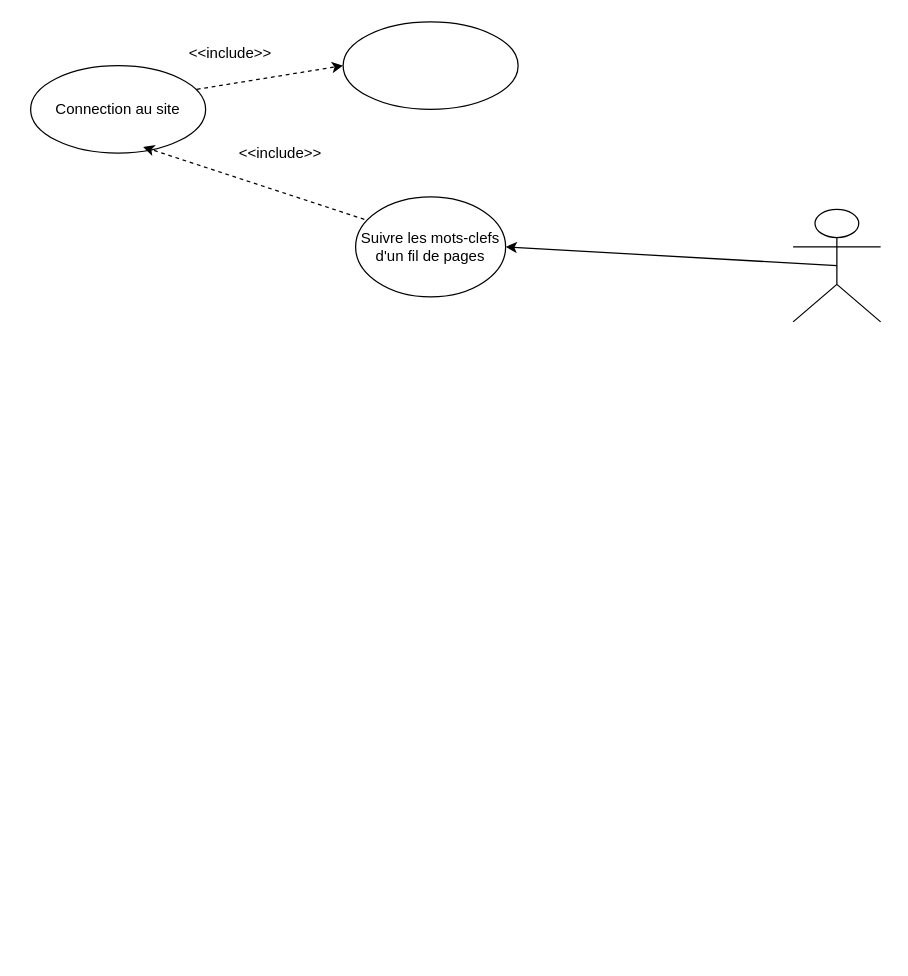
Image size: 908x976. Some labels were removed from this diagram. Here are the shapes that lost their labels. From the top down, the box of each, then its label:
(342, 21, 518, 109): Fournir une URL
(792, 208, 881, 322): UTILISATEUR
